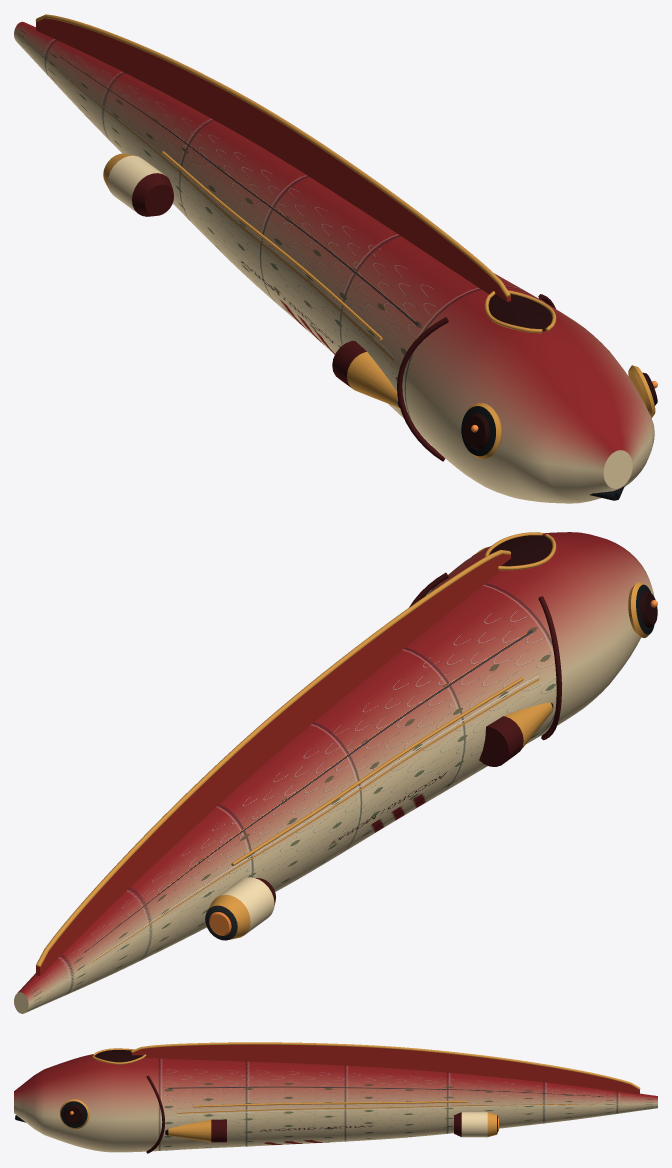
3 views of the same model, one above another, from view 1: azimuth 30°, elevation 25°; view 2: azimuth 150°, elevation 25°; view 3: azimuth 270°, elevation 25° (orthographic). The views are drawn at different scales.
Visible parts, largest first — view 1: moray_hull; view 2: moray_hull; view 3: moray_hull.
Boxes of the visible parts, bbox=[...] form: moray_hull: bbox=[14, 14, 657, 503]; moray_hull: bbox=[14, 532, 657, 1013]; moray_hull: bbox=[14, 1042, 657, 1153].
Size of the model in its own units: 7.55 by 7.56 by 42.
1 material, 1 textured.
